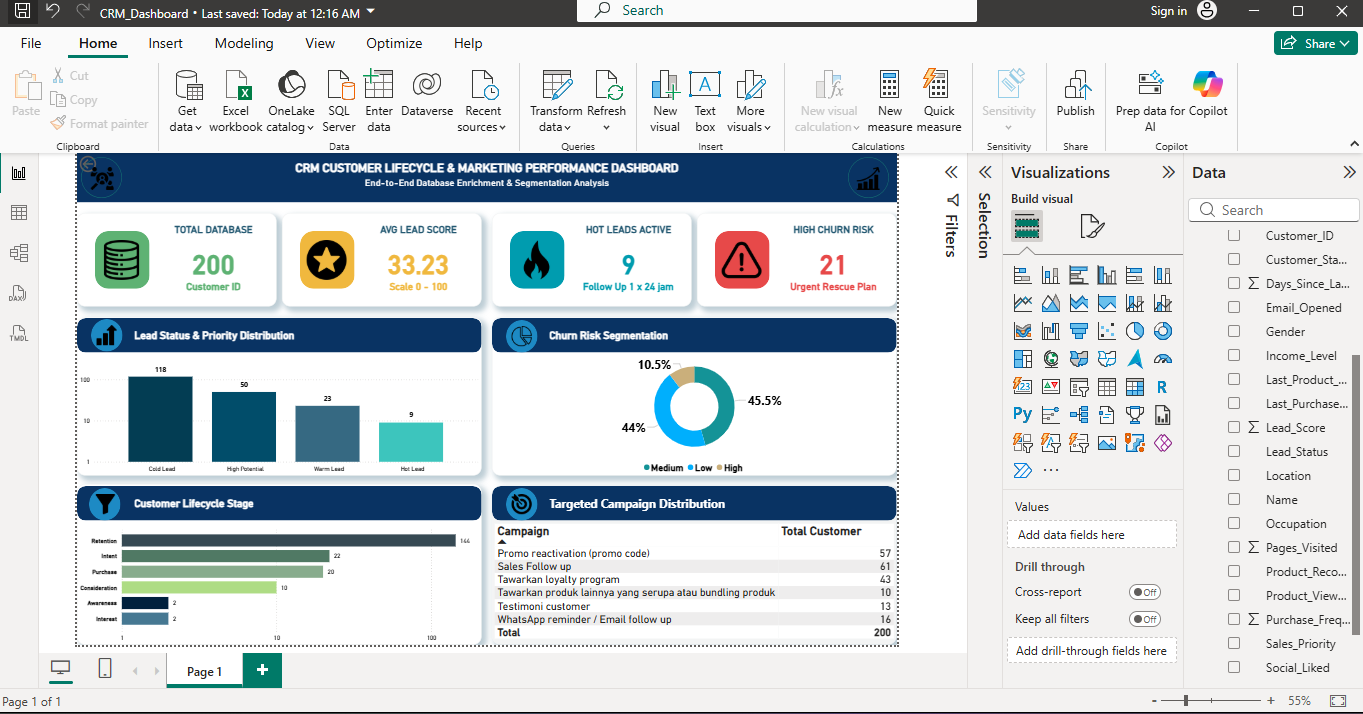

What the dashboard file says about the page in this screenshot:
{"tool":"powerbi","page":{"name":"Page 1","canvas":[1500,900],"ordinal":0},"visuals":[{"type":"shape","title":"CRM CUSTOMER LIFECYCLE & MARKETING PERFORMANCE DASHBOARD","box":[0,0,1500,90.4],"z":0},{"type":"textbox","box":[0,109.6,365,171.2],"z":1000},{"type":"textbox","box":[0,300,740,290.4],"z":2000},{"type":"textbox","box":[0,605.8,740,294.2],"z":3000},{"type":"textbox","box":[759.6,300,740.4,290.4],"z":4000},{"type":"textbox","box":[375,109.6,365.4,171.2],"z":5000},{"type":"textbox","box":[759.6,109.6,365.4,171.2],"z":6000},{"type":"textbox","box":[1134.6,109.6,365.4,171.2],"z":7000},{"type":"cardVisual","title":"TOTAL DATABASE","fields":{"Data":["Count(Sheet1.Customer_ID)"]},"box":[132.7,109.6,232.7,171.2],"z":8000},{"type":"cardVisual","title":"AVG LEAD SCORE","fields":{"Data":["Avg(Sheet1.Lead_Score)"]},"box":[507.7,109.6,232.7,171.2],"z":9000},{"type":"cardVisual","title":"HOT LEADS ACTIVE","fields":{"Data":["Count(Sheet1.Customer_ID)"]},"box":[892.3,109.6,232.7,171.2],"z":10000},{"type":"shape","box":[32.7,142.3,100,105.8],"z":11000},{"type":"image","box":[42.3,159.6,78.8,73.1],"z":12000},{"type":"shape","box":[407.7,142.3,100,105.8],"z":13000},{"type":"shape","box":[792.3,142.3,100,105.8],"z":14000},{"type":"shape","box":[1167.3,142.3,100,105.8],"z":15000},{"type":"image","box":[417.3,159.6,78.8,73.1],"z":16000},{"type":"image","box":[801.9,159.6,78.8,73.1],"z":17000},{"type":"image","box":[1176.9,159.6,78.8,73.1],"z":18000},{"type":"actionButton","box":[0,0,100,40],"z":19000},{"type":"cardVisual","title":"HIGH CHURN RISK","fields":{"Data":["Count(Sheet1.Customer_ID)"]},"box":[1267.3,109.6,232.7,171.2],"z":20000},{"type":"clusteredBarChart","fields":{"Category":["Sheet1.Customer_Stage"],"Y":["CountNonNull(Sheet1.Customer_ID)"]},"box":[0,673.1,740.4,226.9],"z":21000},{"type":"donutChart","fields":{"Category":["Sheet1.Churn_Risk"],"Y":["Count(Sheet1.Customer_ID)"]},"box":[759.6,365.4,740.4,230.8],"z":22000},{"type":"textbox","box":[759.6,609.6,740.4,290.4],"z":23000},{"type":"pivotTable","fields":{"Rows":["Sheet1.Campaign"],"Values":["CountNonNull(Sheet1.Customer_ID)"]},"box":[759.6,673.1,740.4,226.9],"z":24000},{"type":"shape","box":[759.6,609.6,740.4,63.5],"z":25000},{"type":"shape","box":[0,609.6,740.4,63.5],"z":26000},{"type":"shape","box":[0,301.9,740.4,63.5],"z":27000},{"type":"shape","box":[759.6,301.9,740.4,63.5],"z":28000},{"type":"shape","box":[1409.6,7.7,75,75],"z":29000},{"type":"shape","box":[7.7,7.7,75,75],"z":30000},{"type":"image","box":[1421.2,25,51.9,42.3],"z":31000},{"type":"image","box":[19.2,25,51.9,42.3],"z":32000},{"type":"shape","box":[25,303.8,57.7,59.6],"z":33000},{"type":"shape","box":[784.6,305.8,57.7,59.6],"z":34000},{"type":"shape","box":[21.2,613.5,57.7,59.6],"z":35000},{"type":"shape","box":[784.6,613.5,57.7,59.6],"z":36000},{"type":"image","box":[33.9,314.8,39.4,36.9],"z":37000},{"type":"image","box":[793.8,316.9,38.5,36.9],"z":38000},{"type":"image","box":[793.8,624.6,38.5,36.9],"z":39000},{"type":"image","box":[32.9,623.8,38.4,36.6],"z":40000},{"type":"columnChart","fields":{"Category":["Sheet1.Lead_Status"],"Y":["Count(Sheet1.Customer_ID)"]},"box":[0,365.9,740.9,225],"z":41000}]}

Visuals, with their boxes on the page's 1500x900 design canvas (x1, y1, x2, y2). These are canvas units, not pixel positions in the 1363x714 screenshot, which may show the page scaled, cropped or inside an application window:
"CRM CUSTOMER LIFECYCLE & MARKETING PERFORMANCE DASHBOARD" shape: 0, 0, 1500, 90
textbox: 0, 110, 365, 281
textbox: 0, 300, 740, 590
textbox: 0, 606, 740, 900
textbox: 760, 300, 1500, 590
textbox: 375, 110, 740, 281
textbox: 760, 110, 1125, 281
textbox: 1135, 110, 1500, 281
"TOTAL DATABASE" cardVisual: 133, 110, 365, 281
"AVG LEAD SCORE" cardVisual: 508, 110, 740, 281
"HOT LEADS ACTIVE" cardVisual: 892, 110, 1125, 281
shape: 33, 142, 133, 248
image: 42, 160, 121, 233
shape: 408, 142, 508, 248
shape: 792, 142, 892, 248
shape: 1167, 142, 1267, 248
image: 417, 160, 496, 233
image: 802, 160, 881, 233
image: 1177, 160, 1256, 233
actionButton: 0, 0, 100, 40
"HIGH CHURN RISK" cardVisual: 1267, 110, 1500, 281
clusteredBarChart - Sheet1.Customer_Stage x CountNonNull(Sheet1.Customer_ID): 0, 673, 740, 900
donutChart - Sheet1.Churn_Risk x Count(Sheet1.Customer_ID): 760, 365, 1500, 596
textbox: 760, 610, 1500, 900
pivotTable - Sheet1.Campaign x CountNonNull(Sheet1.Customer_ID): 760, 673, 1500, 900
shape: 760, 610, 1500, 673
shape: 0, 610, 740, 673
shape: 0, 302, 740, 365
shape: 760, 302, 1500, 365
shape: 1410, 8, 1485, 83
shape: 8, 8, 83, 83
image: 1421, 25, 1473, 67
image: 19, 25, 71, 67
shape: 25, 304, 83, 363
shape: 785, 306, 842, 365
shape: 21, 614, 79, 673
shape: 785, 614, 842, 673
image: 34, 315, 73, 352
image: 794, 317, 832, 354
image: 794, 625, 832, 662
image: 33, 624, 71, 660
columnChart - Sheet1.Lead_Status x Count(Sheet1.Customer_ID): 0, 366, 741, 591
